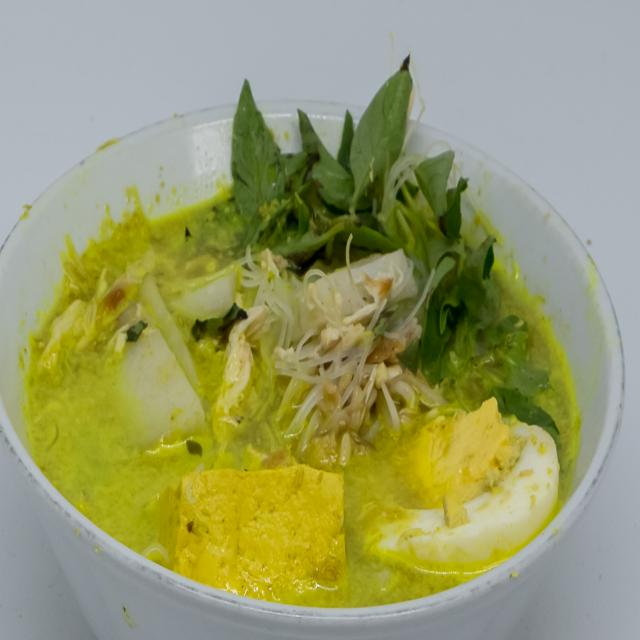Laksa-Bogor: (27, 36, 593, 604)
